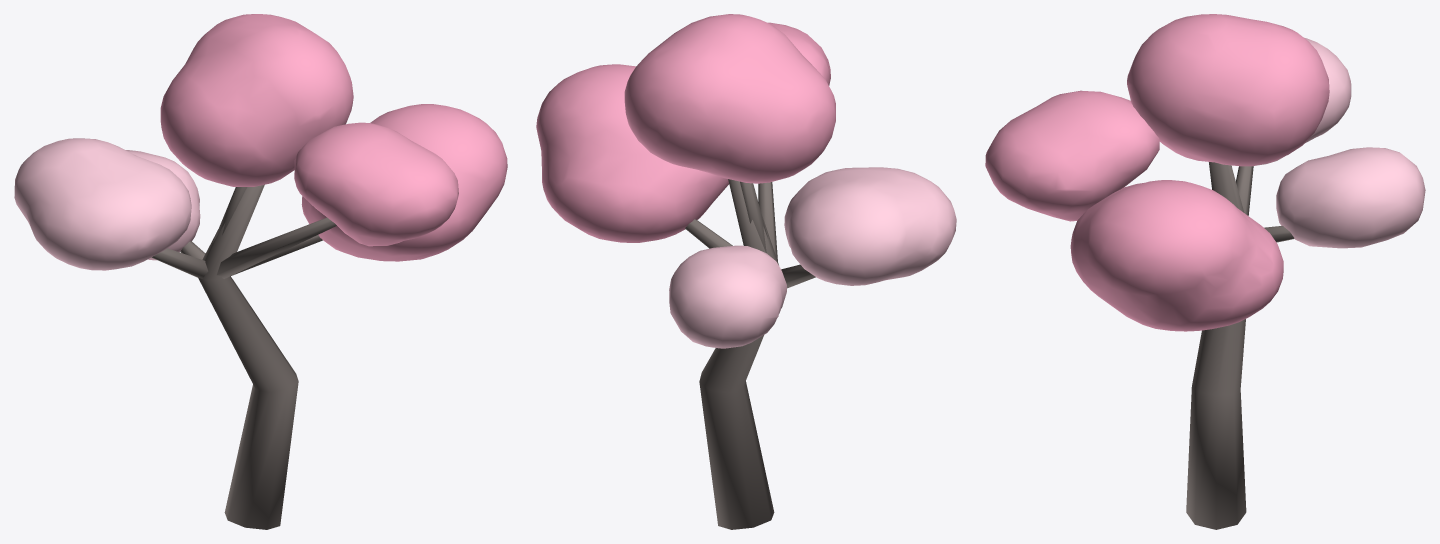
Rendered from blossom.glb.
3 renders of one model, left to right at view 1: azimuth 30°, elevation 25°; view 2: azimuth 150°, elevation 25°; view 3: azimuth 270°, elevation 25°, orthographic. The views are drawn at different scales.
Visible parts, largest first — view 1: Bloom0, Bloom1, Bloom4, Trunk, Bloom2, Branch4, Bloom3, Branch1; view 2: Bloom0, Bloom2, Bloom1, Trunk, Bloom3, Bloom4, Branch4, Branch0, Branch2; view 3: Bloom2, Bloom0, Bloom4, Bloom3, Trunk, Bloom1, Branch1.
Boxes of the visible parts, x1,y1,x2,y2 form: Bloom0: [160, 14, 353, 186]; Bloom1: [14, 138, 191, 270]; Bloom4: [294, 122, 458, 246]; Trunk: [198, 184, 298, 529]; Bloom2: [301, 104, 507, 261]; Branch4: [217, 217, 336, 278]; Bloom3: [126, 150, 200, 260]; Branch1: [151, 248, 208, 278]; Bloom0: [624, 14, 835, 183]; Bloom2: [536, 64, 729, 242]; Bloom1: [784, 167, 956, 285]; Trunk: [699, 179, 778, 529]; Bloom3: [669, 245, 786, 348]; Bloom4: [768, 22, 830, 85]; Branch4: [758, 182, 777, 261]; Branch0: [740, 181, 767, 252]; Branch2: [685, 219, 732, 248]; Bloom2: [1070, 180, 1283, 331]; Bloom0: [1127, 14, 1329, 166]; Bloom4: [985, 90, 1159, 221]; Bloom3: [1276, 147, 1425, 248]; Trunk: [1186, 162, 1246, 529]; Bloom1: [1256, 37, 1351, 165]; Branch1: [1236, 166, 1253, 215].
Size of the model in its own units: 2.69 by 2.97 by 2.34.
